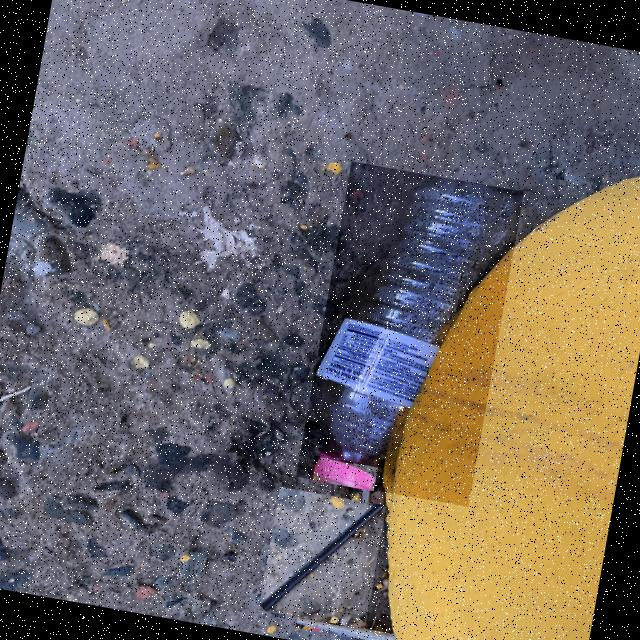Clear plastic bottle: (312, 178, 516, 489)
Plastic bottle cap: (314, 459, 375, 490)
Plastic straw: (260, 503, 386, 611), (296, 618, 394, 640)
